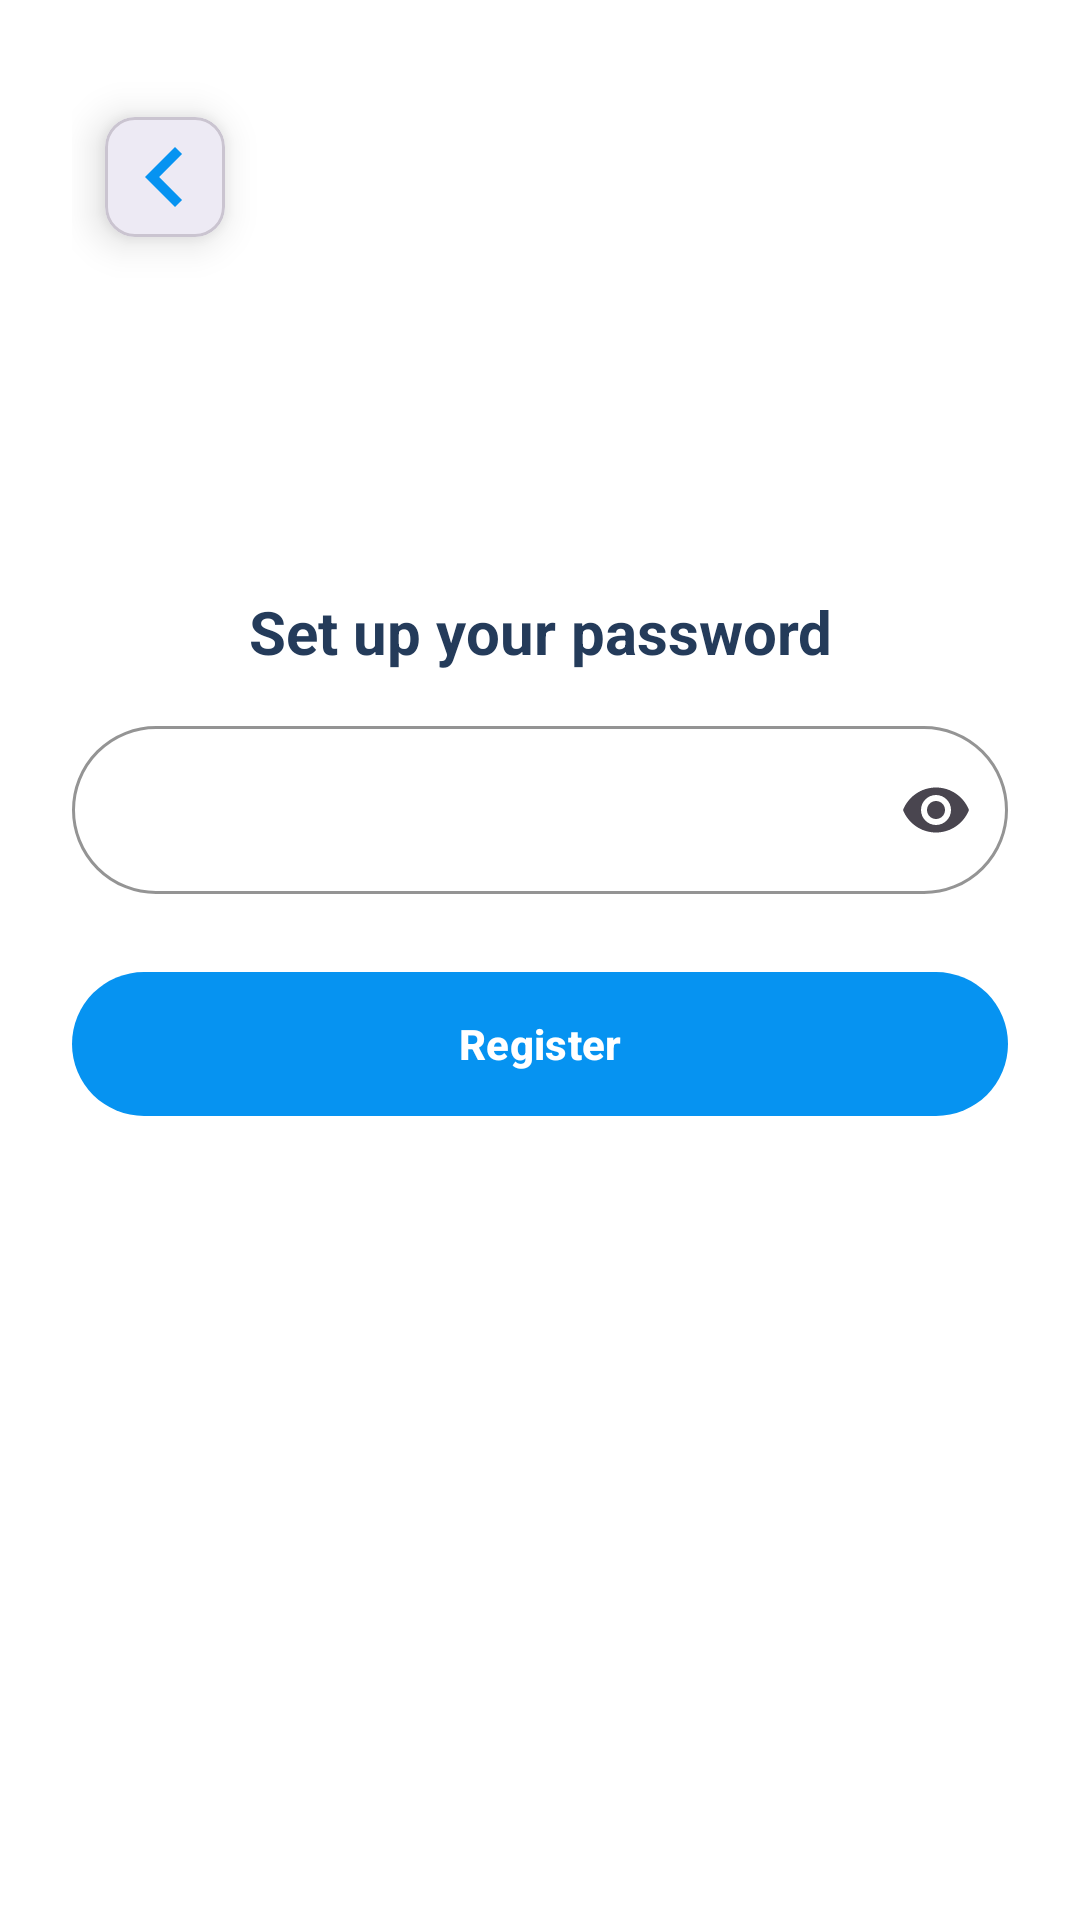

Point at icon controls on the screen. Image size 1080 x 1920, points as point (x, y).
Back: point (165, 177)
